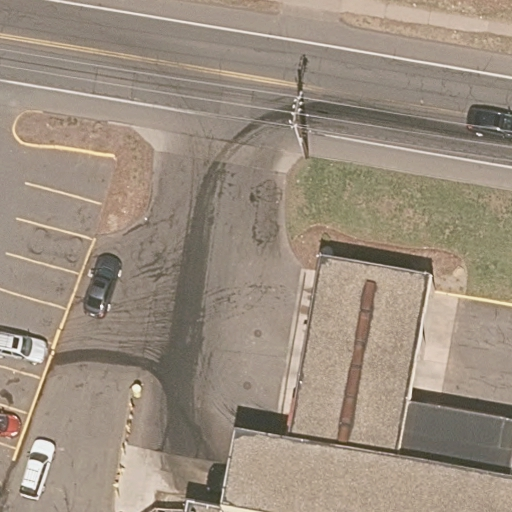DT: (289, 90, 313, 159)
